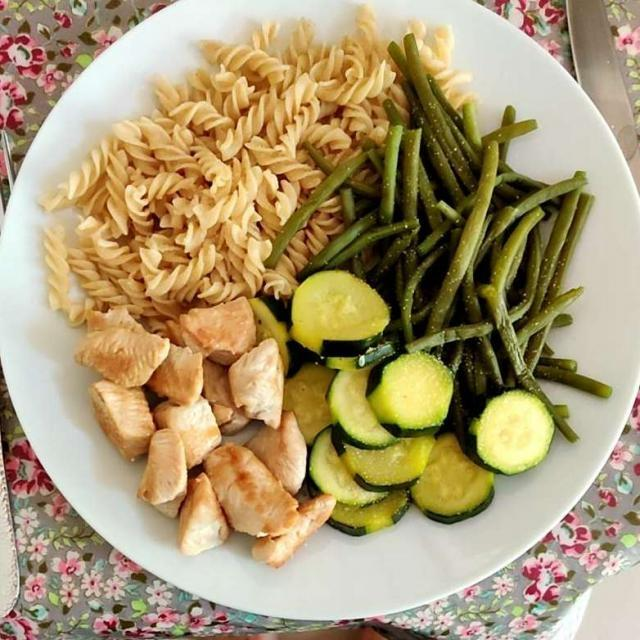green-bean: (273, 52, 609, 446)
pasta: (48, 23, 473, 311)
zucchini: (262, 264, 552, 522)
